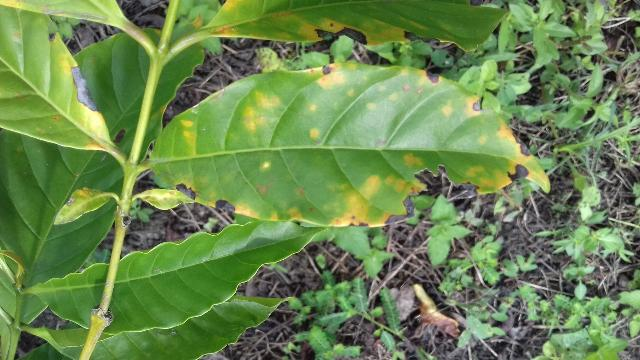rust_level_2: (137, 58, 555, 233)
